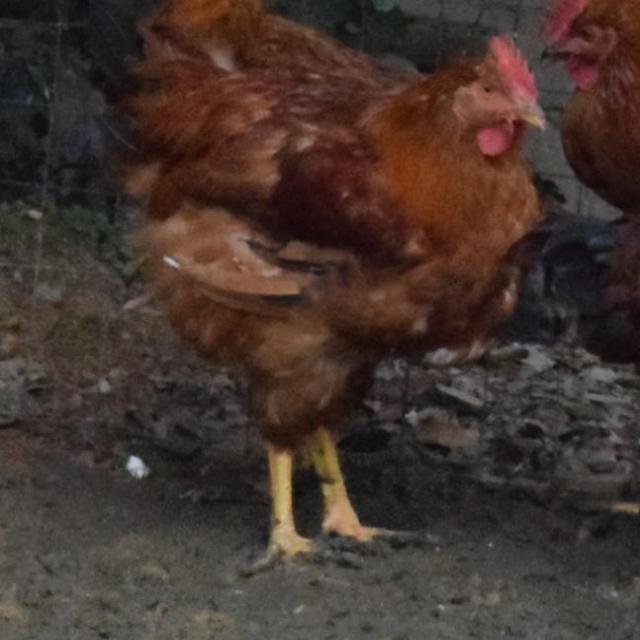cook: (118, 3, 542, 555)
